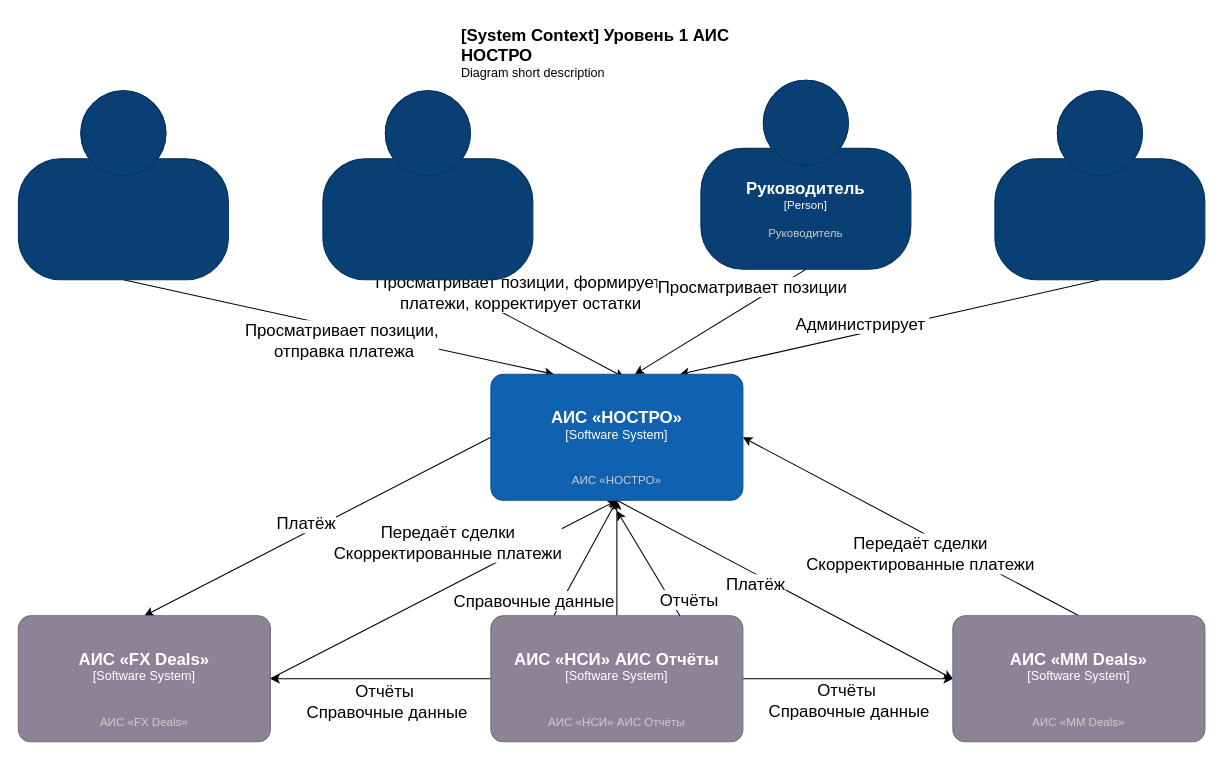
This 1223x760 diagram has some shape labels left out. Here are the shapes that lost their labels. From the top down, the box of each, then its label:
(17, 90, 228, 280): Дилер [Person] Дилер
(322, 90, 533, 280): Позиционер [Person] Позиционер
(994, 90, 1205, 280): Администратор [Person] Администратор
